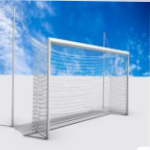goals: (25, 34, 131, 141)
